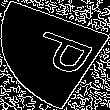P_SE: (14, 28, 96, 82)
